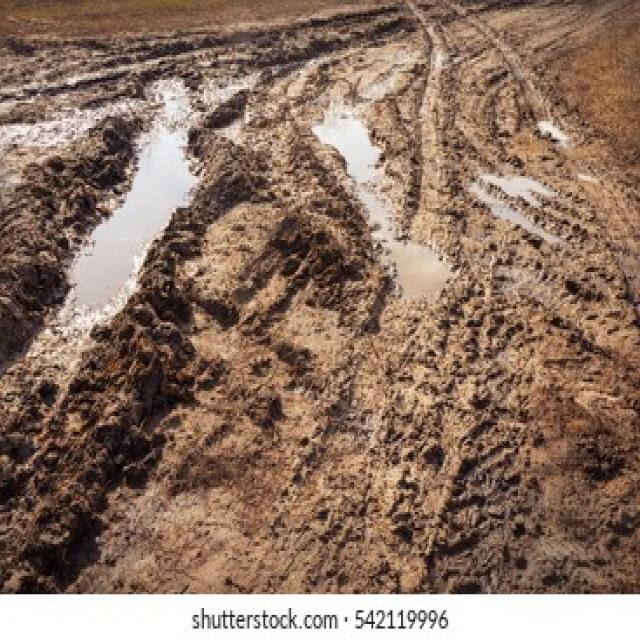Clay Soil: (26, 69, 604, 562)
